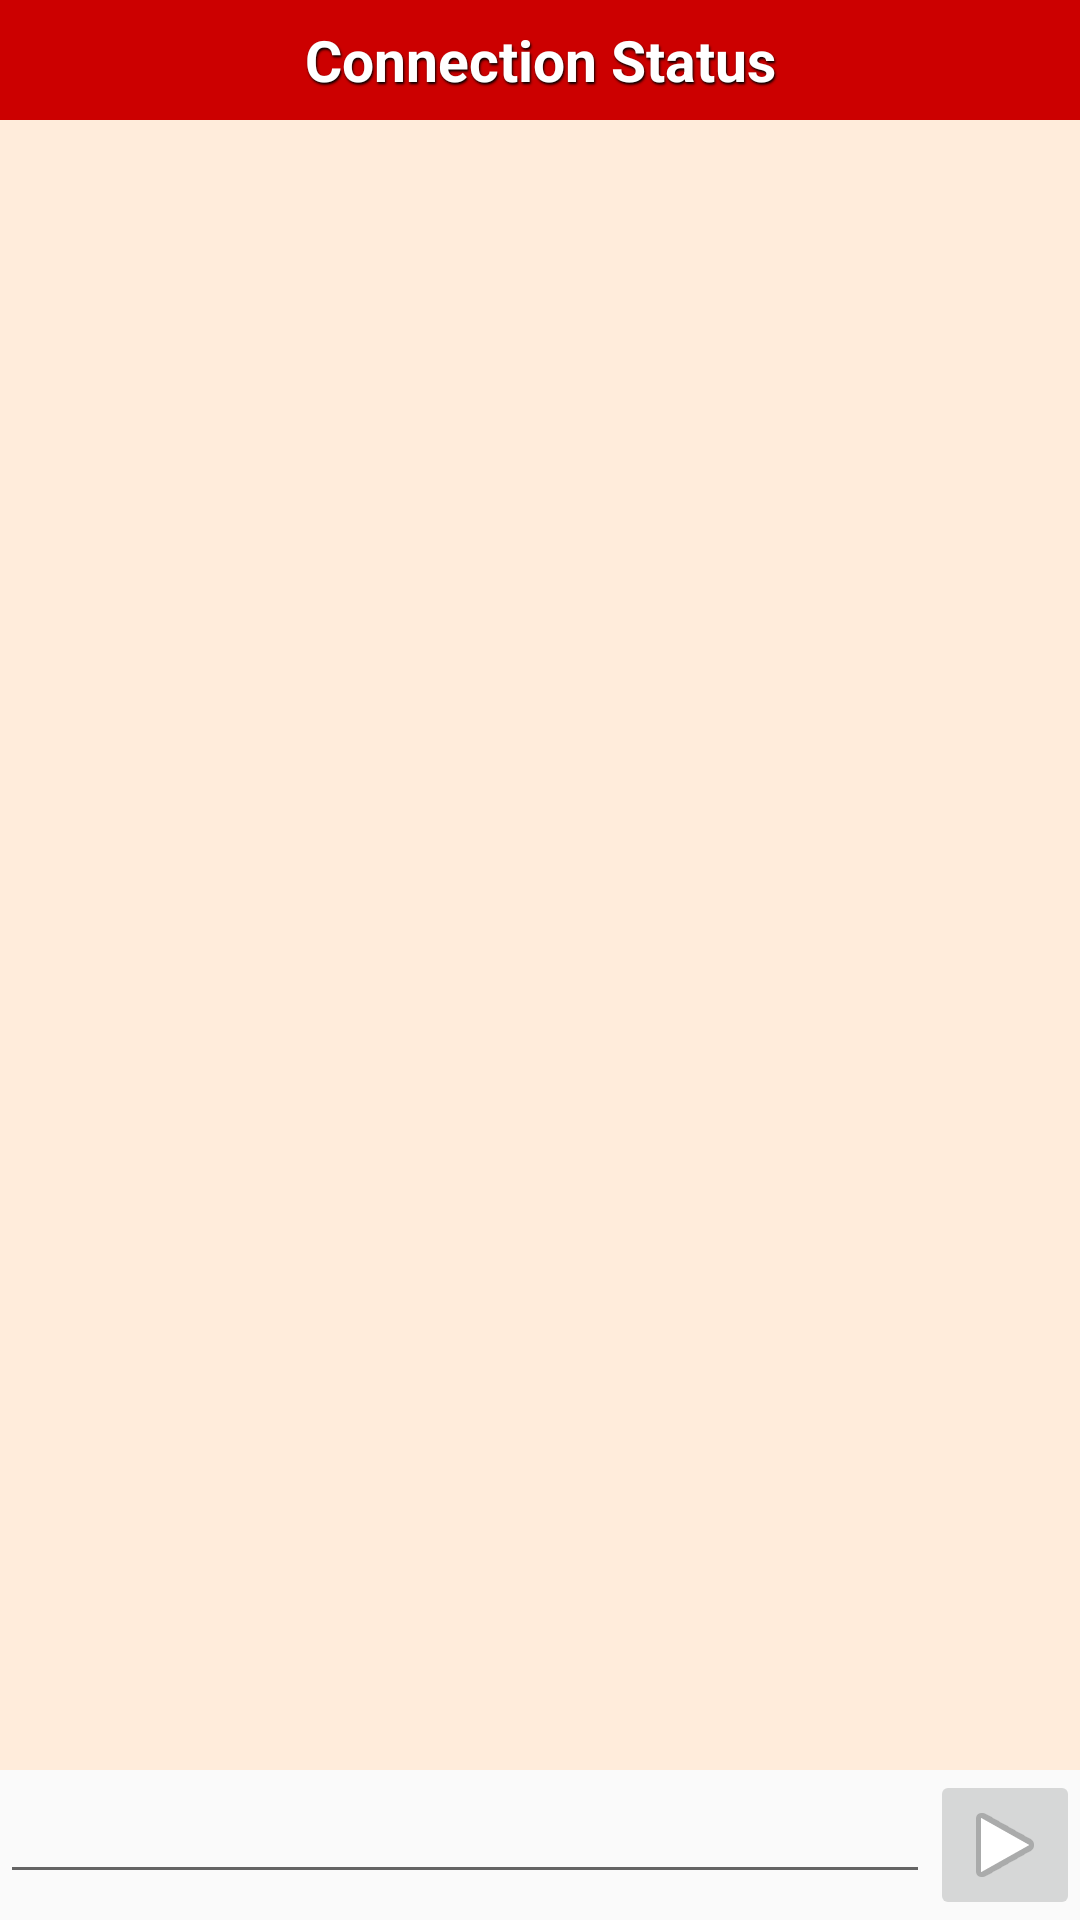

Named icons in this screenshot (1080px×1920px) and their bounding boxes, (x1,y1,x2,y2):
play: (942,1788,1068,1902)
